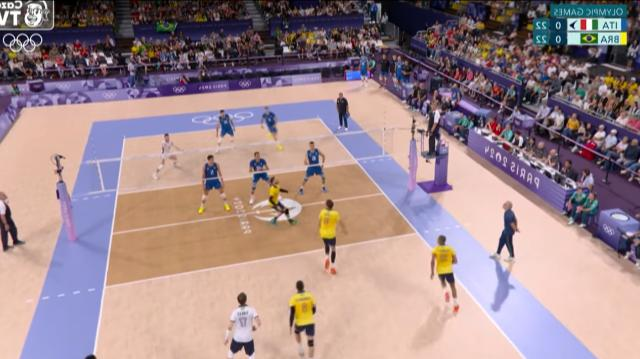Levantador: (270, 175, 292, 223), (264, 103, 278, 142)
Libero: (227, 289, 260, 359), (160, 132, 176, 170)
bola: (305, 34, 315, 48)
